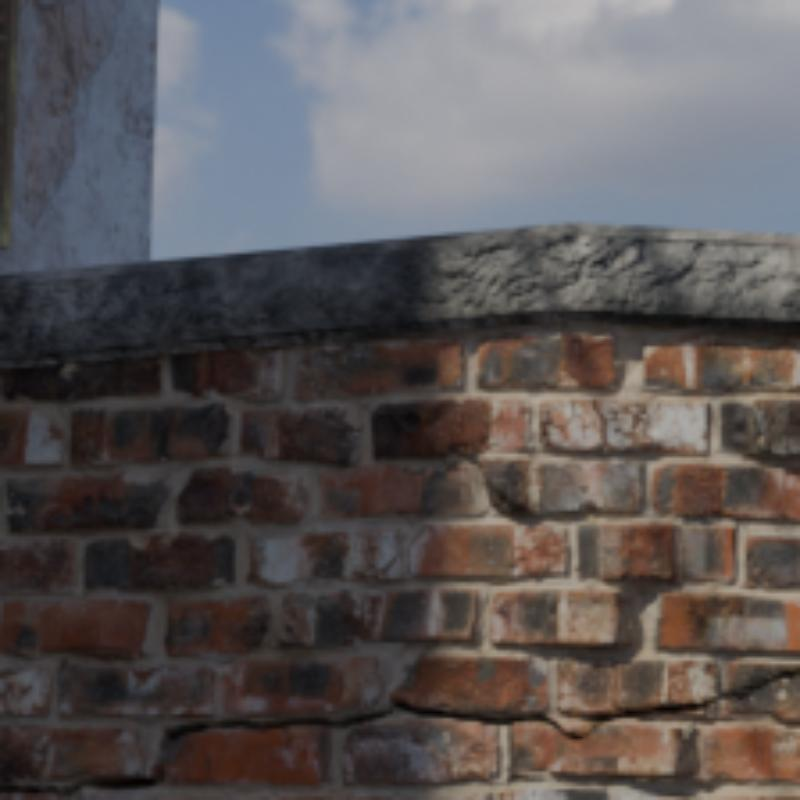pothole: (4, 670, 800, 798), (591, 401, 609, 448)
